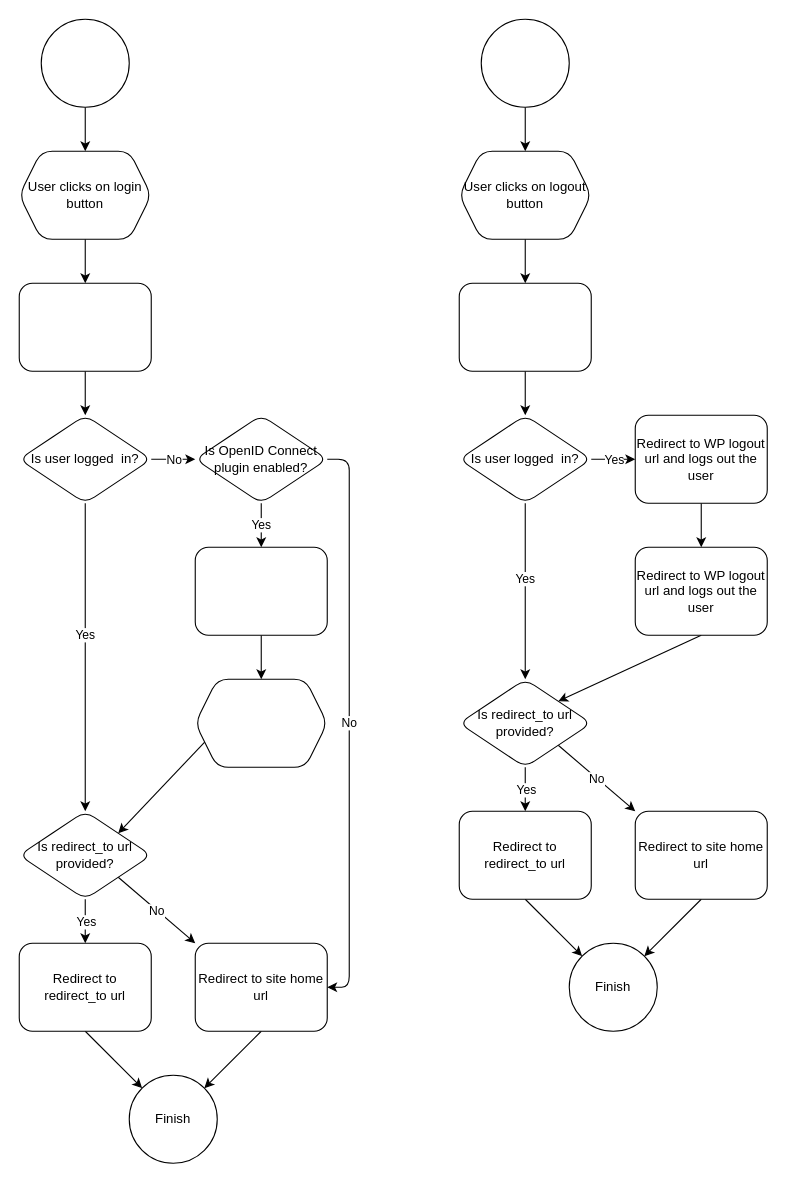
Some shapes in this 787 by 1183 pixel diagram are drawn without their labels. The centre of each missing label's shape, as x and y in pixels:
Redirect to KeyCloak login url: the point at 260,590
User authenticates with account: the point at 260,722
User gets sent to /auth/login/ (with optional ?redirect_to={url}): the point at 84,326
User gets sent to /auth/logout/ (with optional ?redirect_to={url}): the point at 524,326
User wants to login: the point at 84,62
User wants to logout: the point at 524,62
